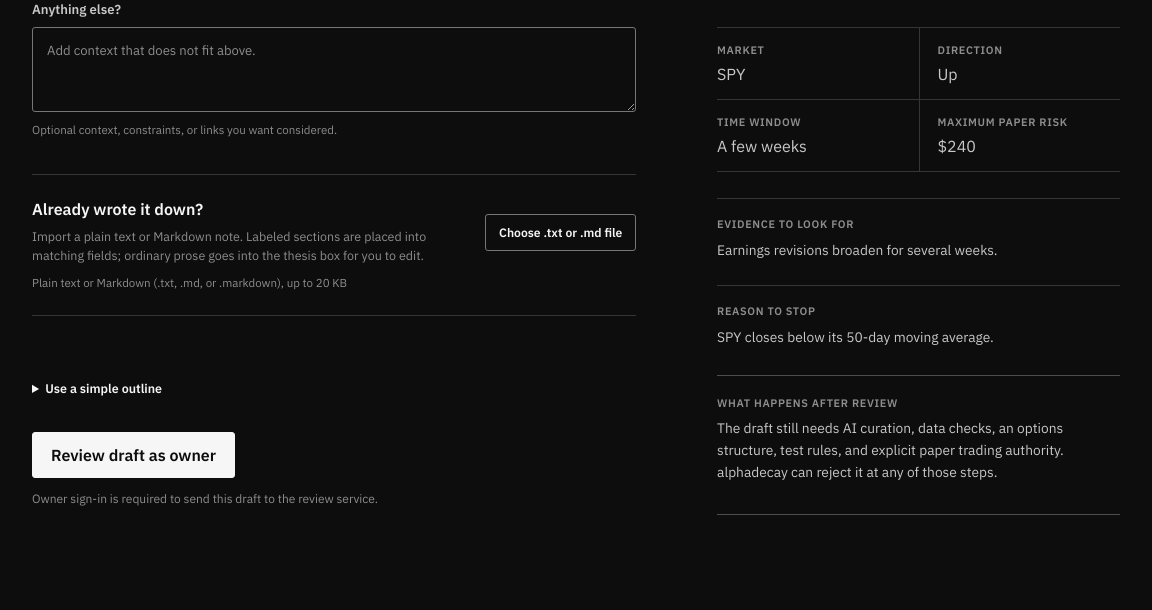
Test case: ConnectedStrategyIntake › requires an authenticated owner session and CSRF token
The image size is (1152, 610).
(page scrolled)
Expected: the text "Owner sign-in is required to send this draft to the review service." is shown, [32,490,406,514]
Click the button "Review draft as owner".
click(134, 455)  # box [32,432,235,478]
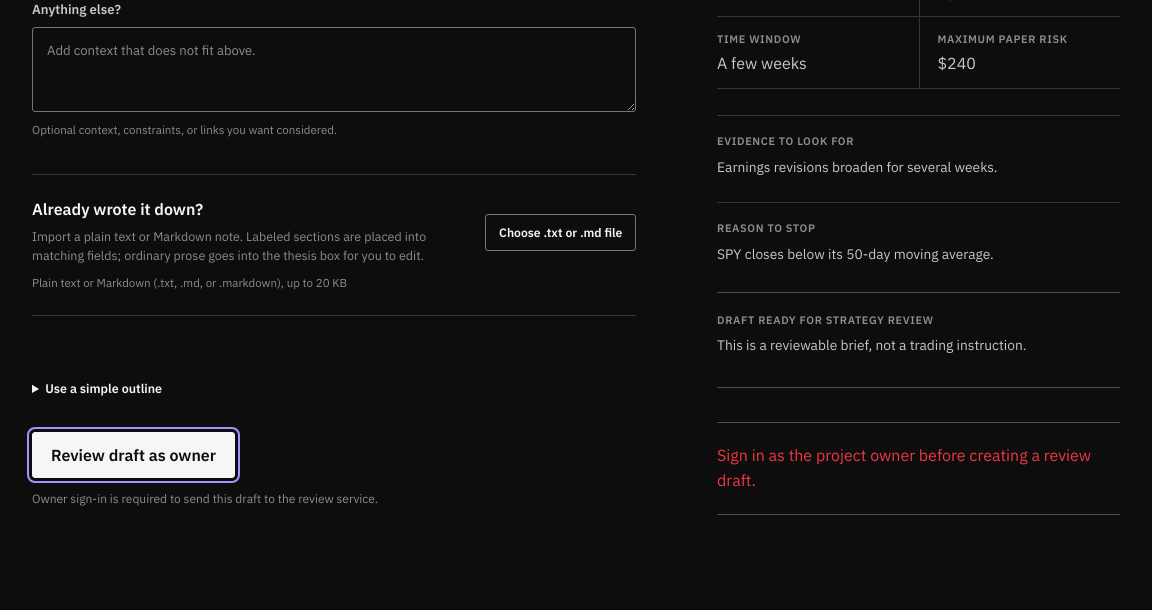
Result: the message reads "Sign in as the project owner before creating a review draft." at [717,445,1091,490]
